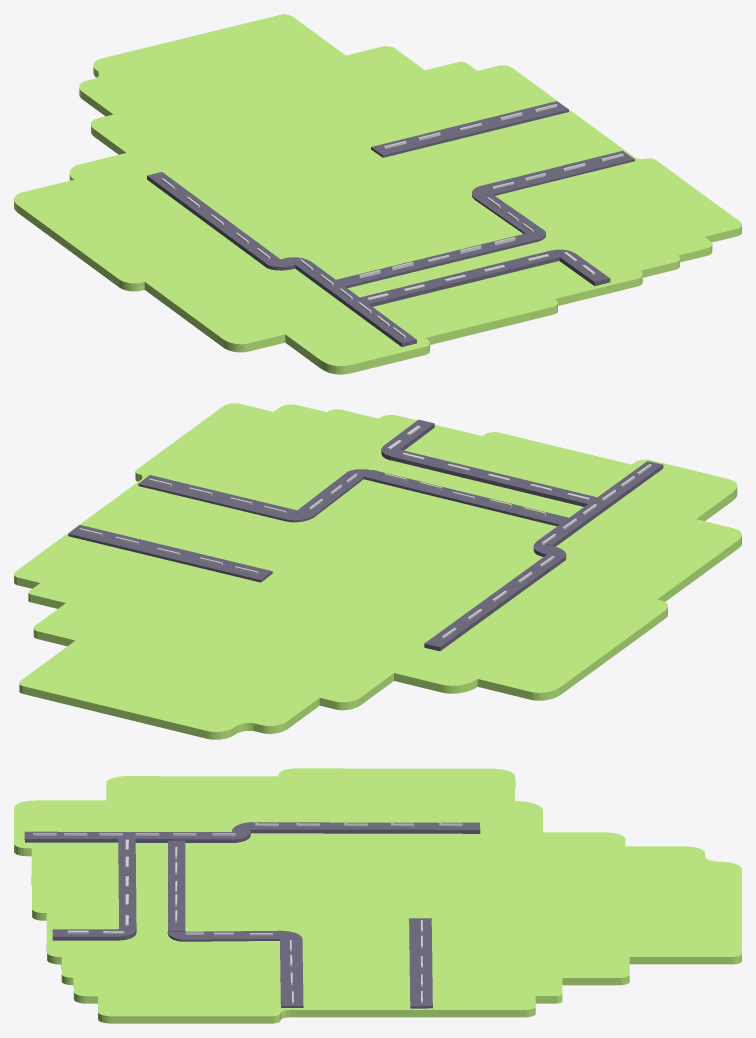
File: maingroundroad_update.glb
3 renders of one model, top to bottom at view 1: azimuth 30°, elevation 25°; view 2: azimuth 150°, elevation 25°; view 3: azimuth 270°, elevation 25°, orthographic. The views are drawn at different scales.
Parts seen in each view (by area): view 1: MainGround, ลูกบาศก์.006, ลูกบาศก์.013, ลูกบาศก์.003, ลูกบาศก์.004, ลูกบาศก์.012, ลูกบาศก์.001, ลูกบาศก์.005, ลูกบาศก์.014; view 2: MainGround, ลูกบาศก์.006, ลูกบาศก์.013, ลูกบาศก์.003, ลูกบาศก์.004, ลูกบาศก์.012, ลูกบาศก์.001, ลูกบาศก์.005, ลูกบาศก์.014; view 3: MainGround, ลูกบาศก์.003, ลูกบาศก์.006, ลูกบาศก์.001, ลูกบาศก์.004, ลูกบาศก์.012, ลูกบาศก์.013, ลูกบาศก์.005, ลูกบาศก์.014.
Part boxes in pixels (<box>): MainGround: <box>14,14,741,374</box>; ลูกบาศก์.006: <box>371,101,568,157</box>; ลูกบาศก์.013: <box>357,250,559,306</box>; ลูกบาศก์.003: <box>147,172,280,266</box>; ลูกบาศก์.004: <box>472,150,634,200</box>; ลูกบาศก์.012: <box>336,233,535,288</box>; ลูกบาศก์.001: <box>295,261,416,346</box>; ลูกบาศก์.005: <box>475,194,545,242</box>; ลูกบาศก์.014: <box>551,249,610,285</box>; MainGround: <box>14,403,741,739</box>; ลูกบาศก์.006: <box>68,525,272,582</box>; ลูกบาศก์.013: <box>390,449,599,506</box>; ลูกบาศก์.003: <box>424,553,564,651</box>; ลูกบาศก์.004: <box>138,475,314,522</box>; ลูกบาศก์.012: <box>363,470,568,526</box>; ลูกบาศก์.001: <box>536,461,663,546</box>; ลูกบาศก์.005: <box>297,469,371,516</box>; ลูกบาศก์.014: <box>381,419,434,460</box>; MainGround: <box>14,768,741,1023</box>; ลูกบาศก์.003: <box>248,822,480,833</box>; ลูกบาศก์.006: <box>409,918,432,1008</box>; ลูกบาศก์.001: <box>24,831,232,842</box>; ลูกบาศก์.004: <box>279,930,303,1007</box>; ลูกบาศก์.012: <box>168,840,185,931</box>; ลูกบาศก์.013: <box>118,837,136,932</box>; ลูกบาศก์.005: <box>167,930,280,941</box>; ลูกบาศก์.014: <box>52,929,136,940</box>.
Bounding box in the file's own units: 34.19 × 0.8755 × 42.48.
